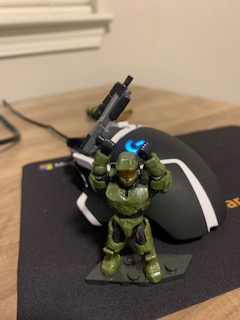chief: (87, 138, 174, 285)
rifle: (78, 74, 135, 156)
spartan: (85, 136, 172, 283)
up: (85, 138, 174, 212)
